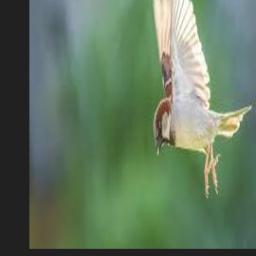Sparrow: (152, 0, 252, 197)
